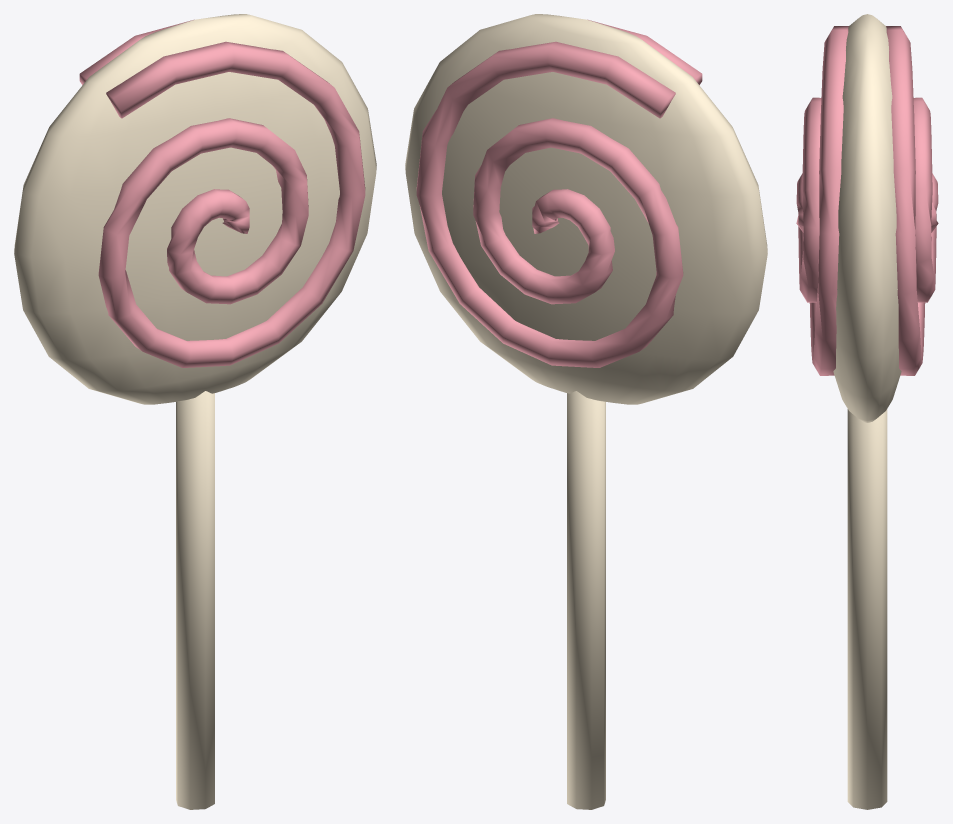
File: CandyHandle.fbx
3 renders of one model, left to right at view 1: azimuth 30°, elevation 25°; view 2: azimuth 150°, elevation 25°; view 3: azimuth 270°, elevation 25°, orthographic.
Visible parts, largest first — view 1: Candy disc, Strawberry spiral, Vanilla stick, Strawberry spiral.001; view 2: Candy disc, Strawberry spiral.001, Vanilla stick, Strawberry spiral; view 3: Candy disc, Vanilla stick, Strawberry spiral, Strawberry spiral.001.
Part boxes in pixels (bbox=[...]): Candy disc: bbox=[14, 14, 376, 404]; Strawberry spiral: bbox=[98, 41, 365, 367]; Vanilla stick: bbox=[176, 391, 214, 809]; Strawberry spiral.001: bbox=[79, 19, 194, 84]; Candy disc: bbox=[405, 14, 767, 404]; Strawberry spiral.001: bbox=[416, 41, 683, 367]; Vanilla stick: bbox=[567, 391, 605, 809]; Strawberry spiral: bbox=[587, 19, 702, 84]; Candy disc: bbox=[833, 14, 901, 422]; Vanilla stick: bbox=[847, 409, 887, 809]; Strawberry spiral: bbox=[796, 26, 848, 375]; Strawberry spiral.001: bbox=[886, 26, 938, 375].
Size of the model in its own units: 0.02 by 0.0412 by 0.0069.
